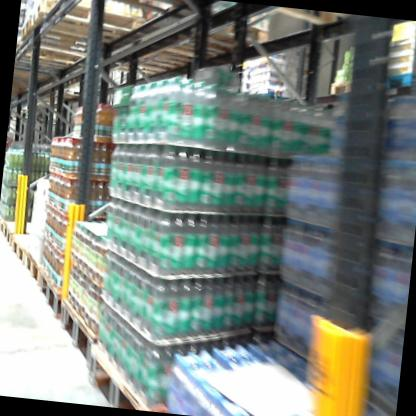pallet: (81, 336, 176, 412), (32, 1, 153, 41), (174, 13, 278, 59), (52, 293, 102, 383), (17, 11, 114, 54), (32, 263, 71, 330), (329, 67, 377, 105), (9, 233, 49, 270), (375, 66, 416, 96), (20, 248, 43, 290), (0, 212, 34, 239), (0, 222, 28, 252)
